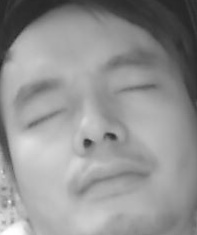blink: (28, 108, 67, 133), (117, 77, 155, 100)
mouth: (75, 159, 148, 200)
